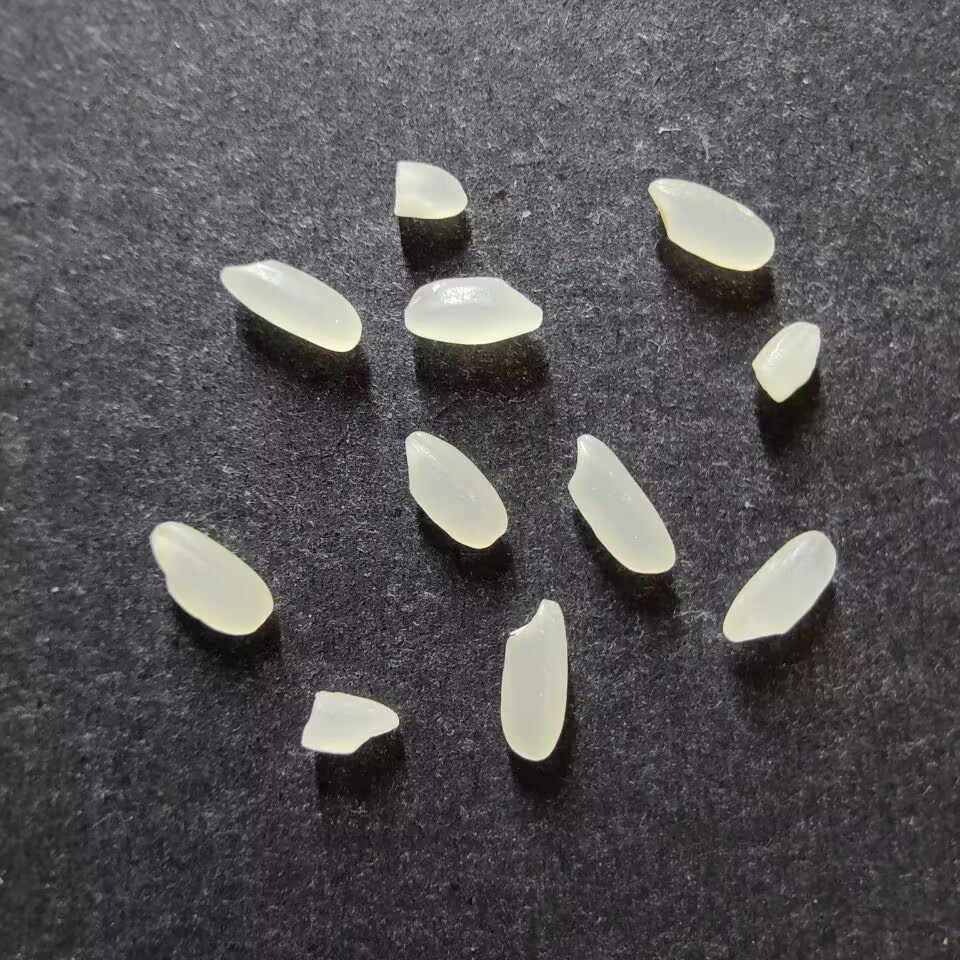broken: (300, 690, 399, 754), (751, 320, 821, 403), (393, 160, 468, 220)
rice: (567, 434, 676, 574), (150, 521, 273, 635), (220, 259, 362, 352), (721, 530, 837, 642), (404, 431, 507, 549), (647, 178, 775, 272), (499, 598, 567, 761), (403, 276, 543, 344)
